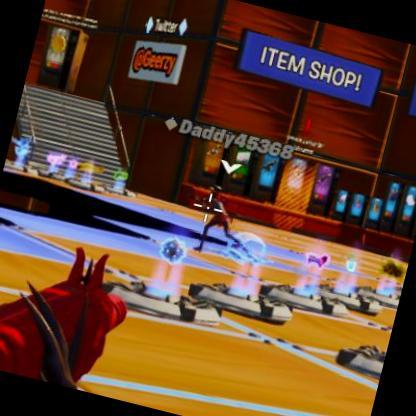person: (185, 180, 248, 270)
